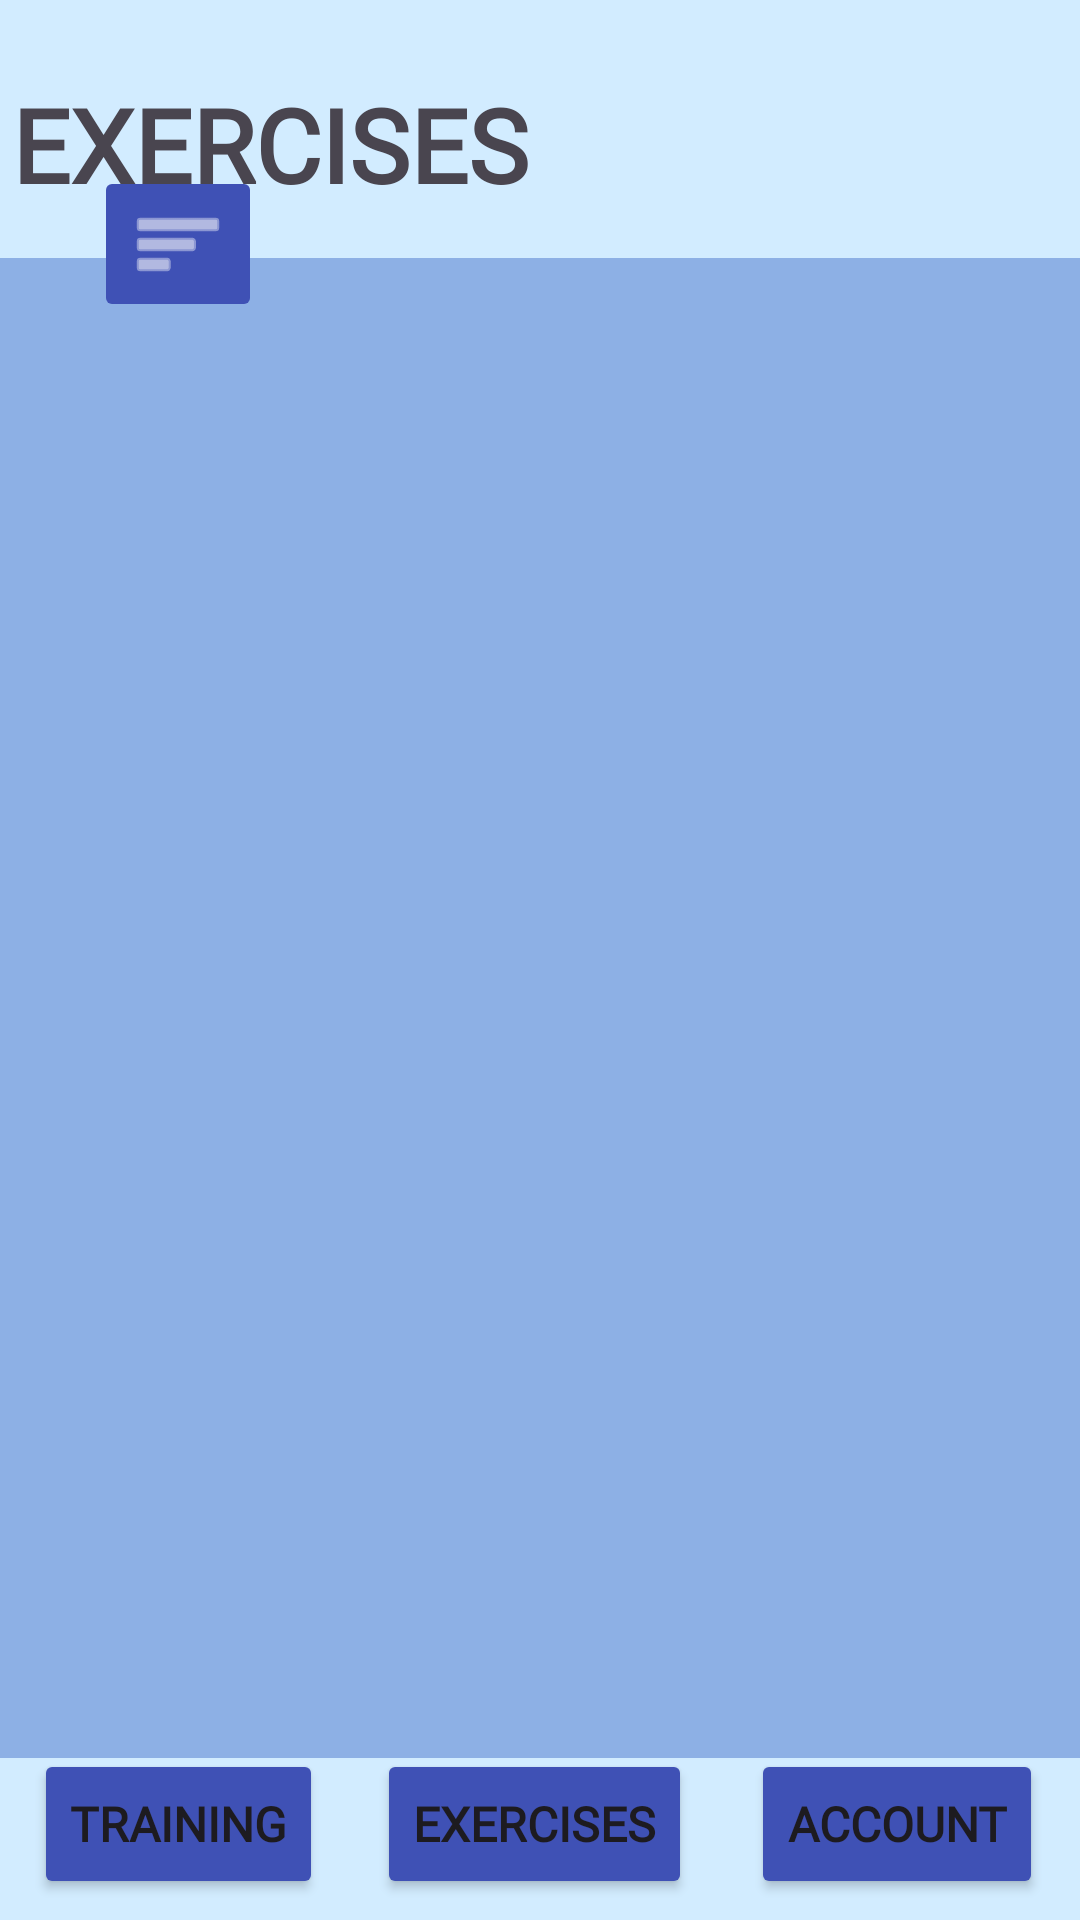

Icon click points for this 1080*1920 phone screenshot, format (x=x, y=y):
sort by size: (x=178, y=244)
